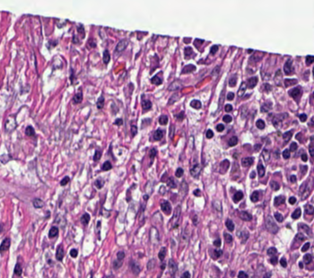nucleus: (170, 205, 180, 228), (265, 215, 278, 232), (115, 39, 127, 52), (219, 159, 229, 173), (160, 200, 170, 214), (141, 97, 151, 110), (190, 164, 200, 177), (238, 230, 248, 242), (182, 64, 195, 73), (1, 238, 9, 252), (48, 226, 58, 237), (168, 81, 180, 90), (73, 91, 82, 103), (241, 157, 253, 166), (239, 211, 251, 220), (247, 77, 257, 87), (154, 129, 163, 140), (233, 191, 242, 202), (32, 198, 43, 207), (213, 200, 221, 212), (238, 83, 245, 96), (257, 163, 264, 176), (151, 75, 161, 84), (274, 196, 284, 205), (184, 47, 192, 58), (81, 213, 89, 224), (225, 219, 233, 230), (97, 96, 104, 108), (149, 148, 156, 160), (262, 149, 269, 161), (25, 126, 34, 135), (228, 136, 237, 145), (102, 161, 111, 170), (60, 176, 69, 185), (167, 178, 176, 187), (190, 100, 200, 108), (256, 119, 264, 129), (93, 150, 101, 160), (250, 191, 258, 201), (224, 232, 232, 242), (78, 24, 84, 37), (103, 50, 109, 63), (250, 54, 261, 61), (210, 45, 218, 54), (169, 94, 177, 103), (159, 115, 167, 124), (270, 181, 279, 189), (229, 76, 236, 86), (274, 213, 282, 221), (206, 129, 213, 138), (219, 90, 223, 104), (223, 115, 231, 122), (216, 124, 224, 131), (175, 168, 182, 176), (95, 179, 102, 187), (131, 125, 136, 136), (224, 104, 231, 111), (213, 239, 220, 246), (263, 84, 270, 90), (227, 92, 233, 99), (177, 112, 183, 119), (115, 118, 122, 124), (193, 189, 200, 195), (254, 144, 260, 150), (213, 67, 218, 74), (250, 171, 254, 178), (160, 186, 164, 193), (195, 39, 203, 42), (71, 70, 73, 82), (184, 38, 189, 42)
